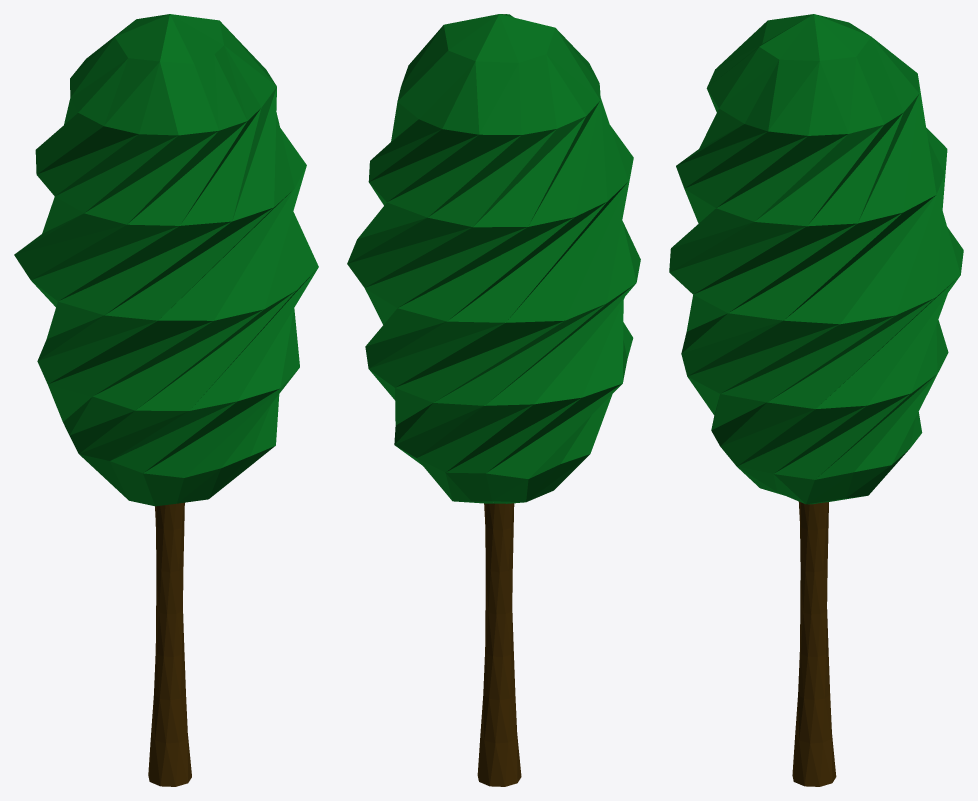
Rendered from Trre1.dae.
The picture shows the model from 3 angles, left to right: view 1: azimuth 30°, elevation 25°; view 2: azimuth 150°, elevation 25°; view 3: azimuth 270°, elevation 25°; orthographic projection.
Visible parts, largest first — view 1: low poly tree; view 2: low poly tree; view 3: low poly tree.
Part boxes in pixels (x1,y1,x2,y2): low poly tree: (14, 14, 318, 786); low poly tree: (347, 14, 640, 786); low poly tree: (669, 14, 963, 786).
Size of the model in its own units: 37.19 by 37.39 by 107.
Materials: 1 (1 with a texture image).
